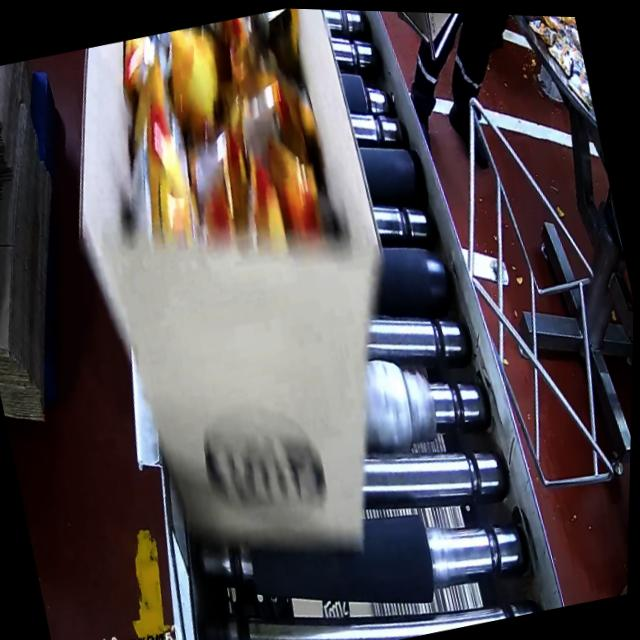FRENCH_CHEESE: (82, 3, 343, 279)
